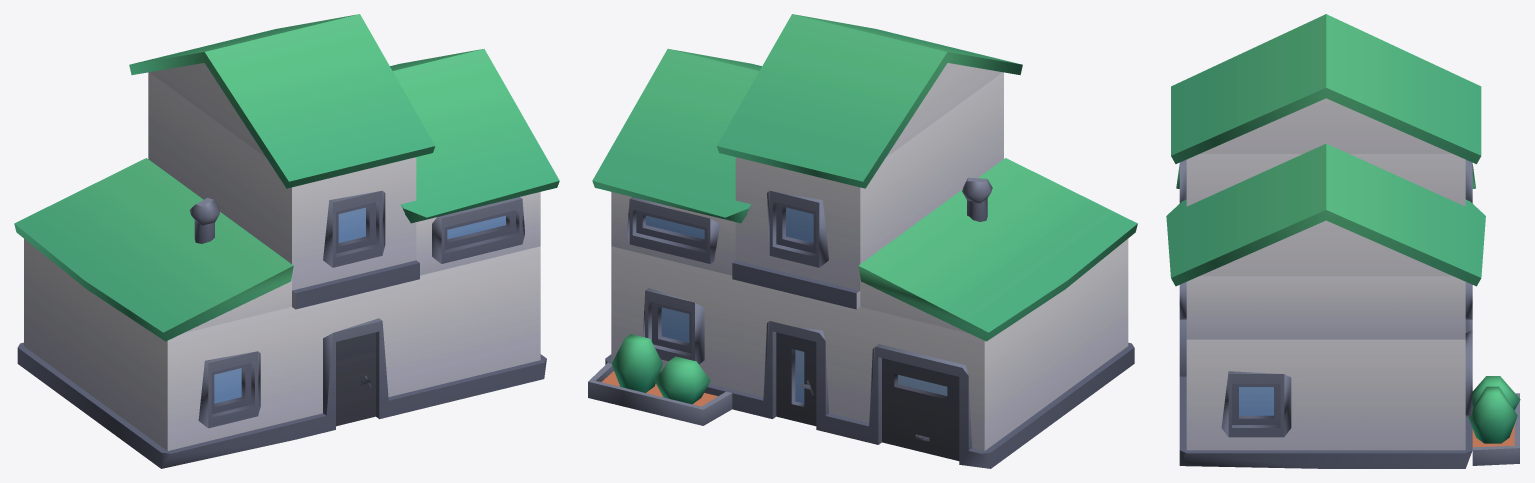
Rendered from 056_city-kit-suburban_building-type-c_card.glb.
The picture shows the model from 3 angles, left to right: view 1: azimuth 30°, elevation 25°; view 2: azimuth 150°, elevation 25°; view 3: azimuth 270°, elevation 25°; orthographic projection. The views are drawn at different scales.
Visible parts, largest first — view 1: building-type-c; view 2: building-type-c; view 3: building-type-c.
Part boxes in pixels (x1,y1,x2,y2): building-type-c: [14, 14, 559, 468]; building-type-c: [588, 14, 1137, 468]; building-type-c: [1166, 14, 1520, 468].
Size of the model in its own units: 1.29 by 1.03 by 1.02.
1 material, 1 textured.
